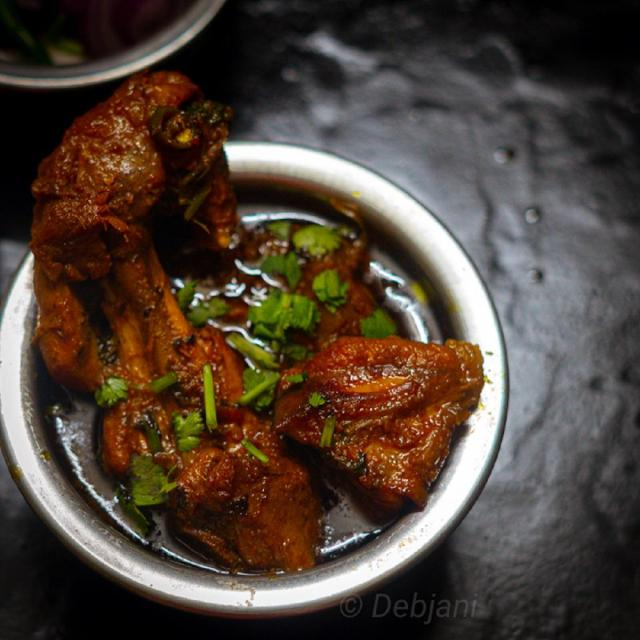chicken: (19, 95, 514, 583)
